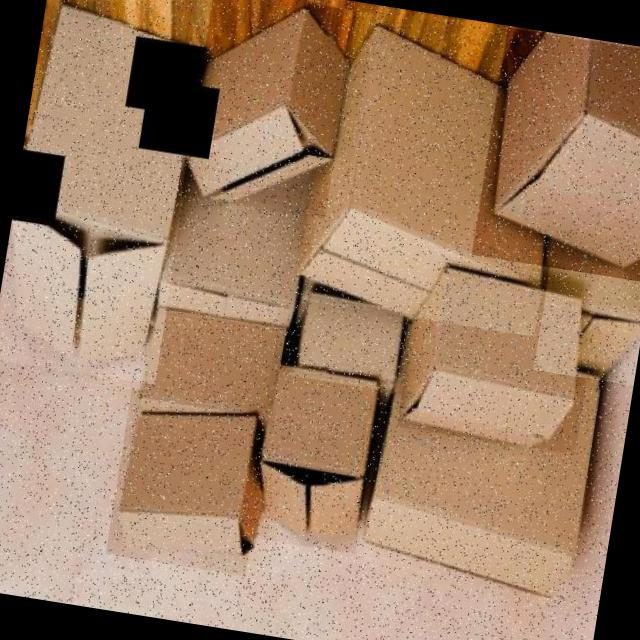box: (304, 2, 582, 338), (0, 0, 218, 385), (354, 356, 603, 596), (471, 28, 640, 283), (181, 0, 358, 219), (396, 268, 599, 455), (105, 388, 272, 576), (153, 163, 316, 328), (250, 362, 384, 554), (136, 299, 290, 432), (533, 244, 640, 385), (292, 284, 416, 394)
